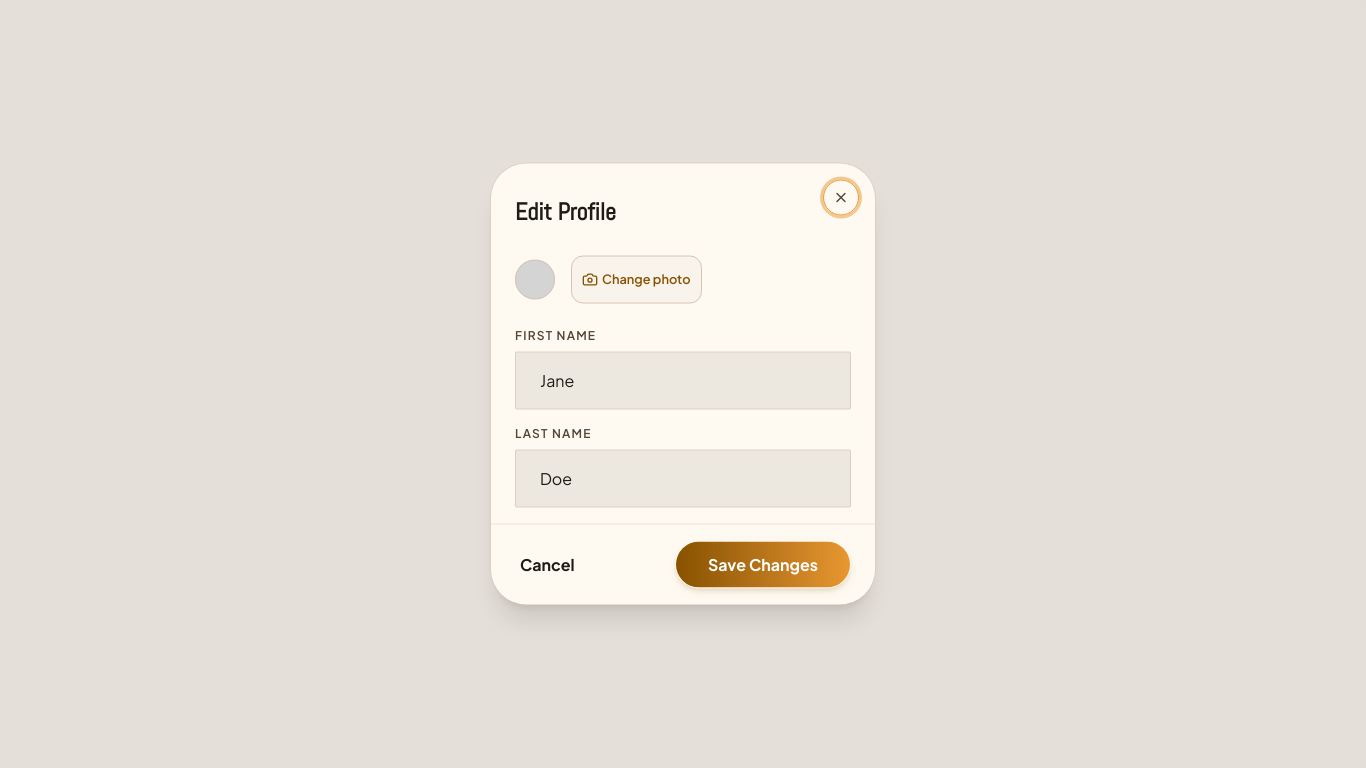
EditProfileForm › shows the Clerk error message and does not refetch or close on failure
Click the button "Save Changes" at (763, 564), box [675, 540, 851, 588]
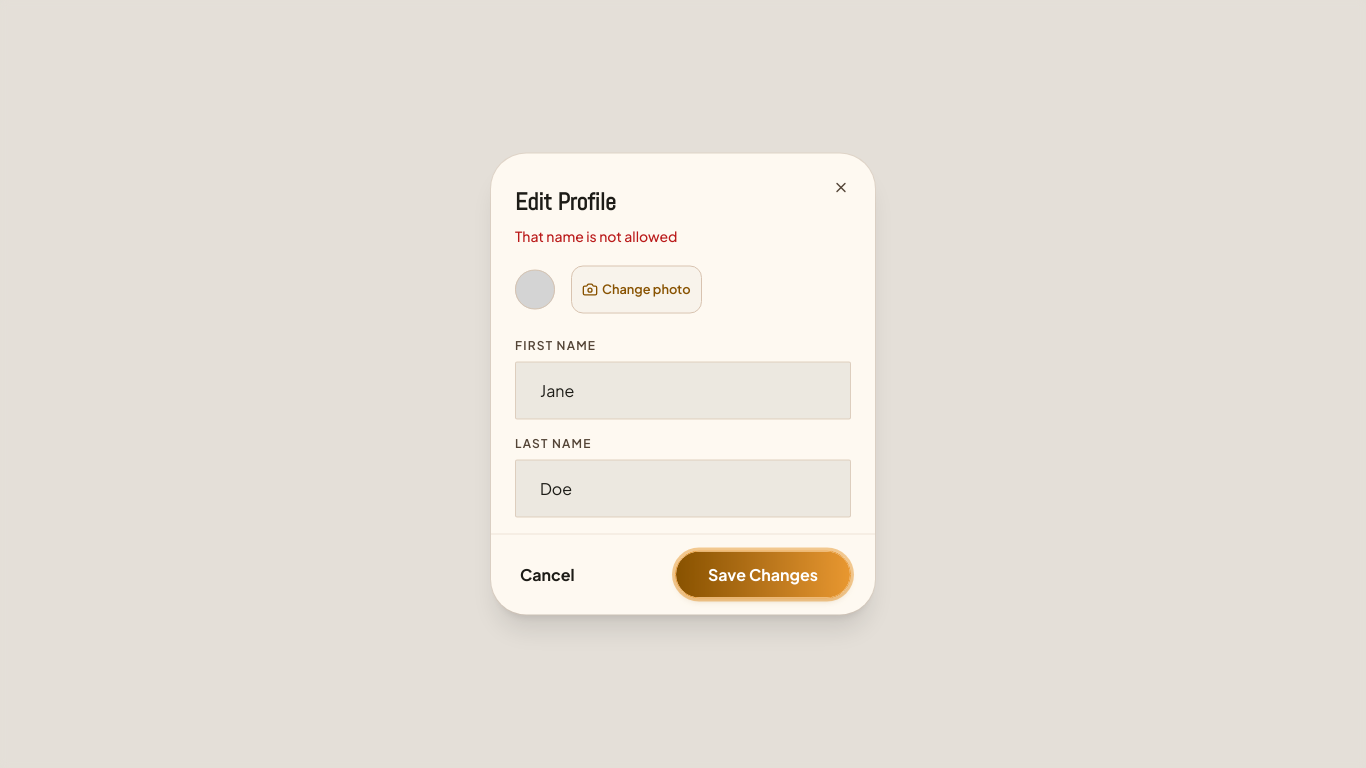
expect the text "That name is not allowed" is shown: met, box [515, 226, 677, 246]
